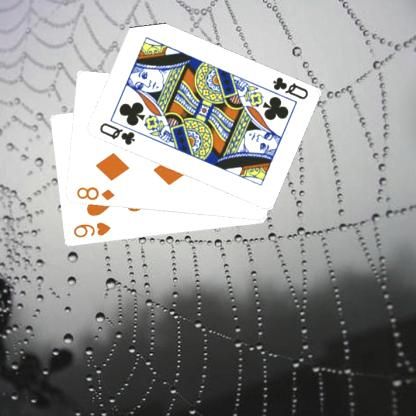8D: (74, 184, 116, 202)
9H: (70, 219, 112, 240)
QC: (269, 74, 310, 101), (97, 120, 136, 147)
